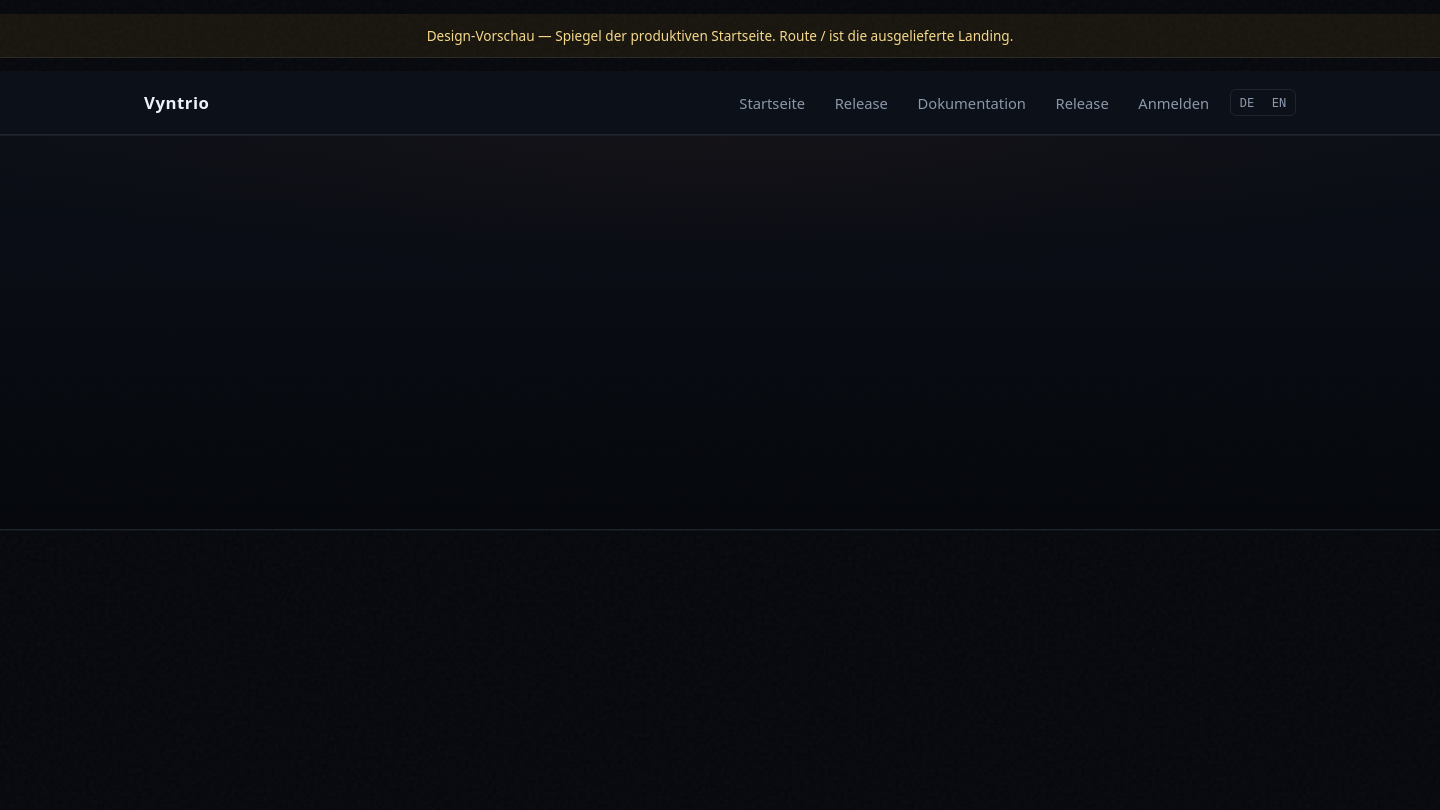
Test: DownloadPreviewV2 › switches to English copy via locale switcher
The width and height of the screenshot is (1440, 810).
Click the button "EN": [1279, 103] box [1263,90,1295,115]
(page scrolled)
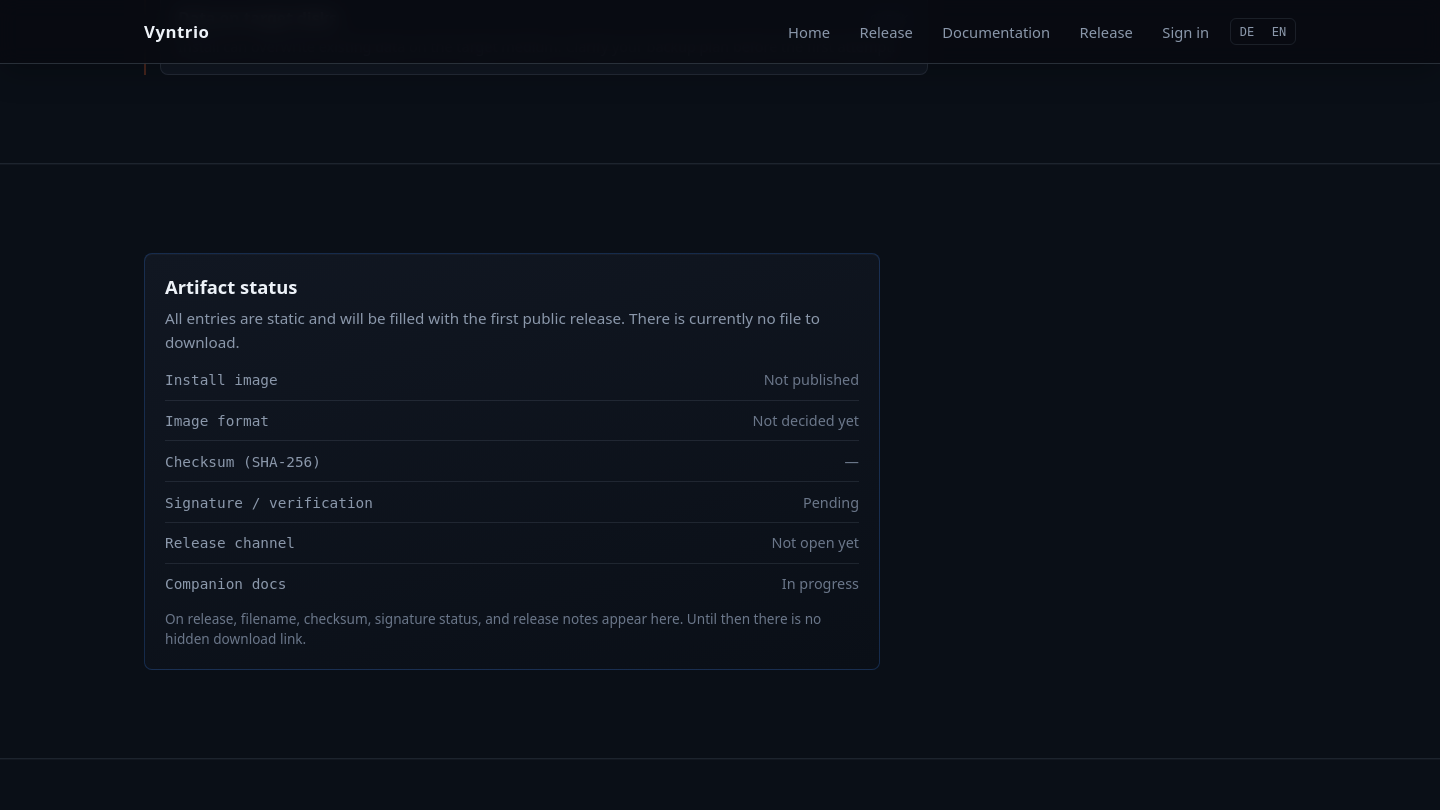
expect the text "Not published" is shown: met, box [764,370,859,389]
